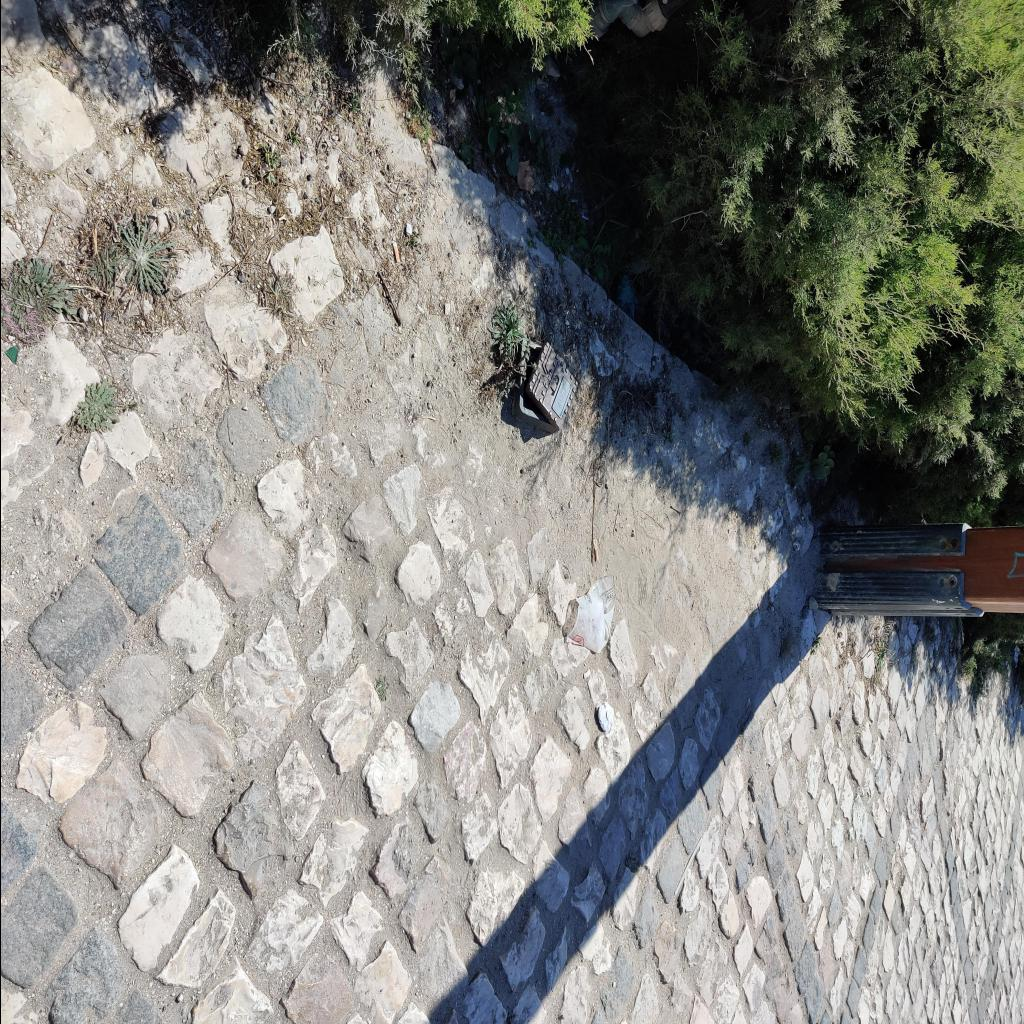Broken glass: (3, 345, 19, 367)
Cigarette: (391, 242, 400, 262), (592, 540, 598, 562)
Disposable plastic cup: (566, 574, 614, 654)
Unlabeled litter: (674, 836, 702, 896), (596, 702, 614, 730)
